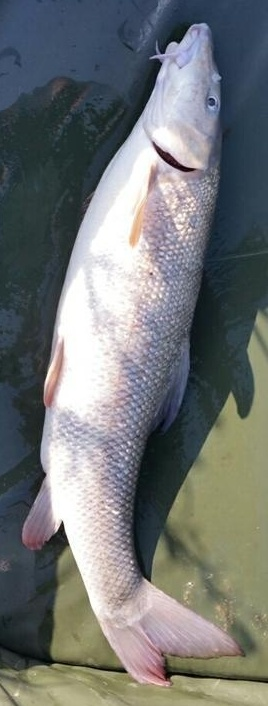Barbus barbus: (20, 20, 248, 686)
